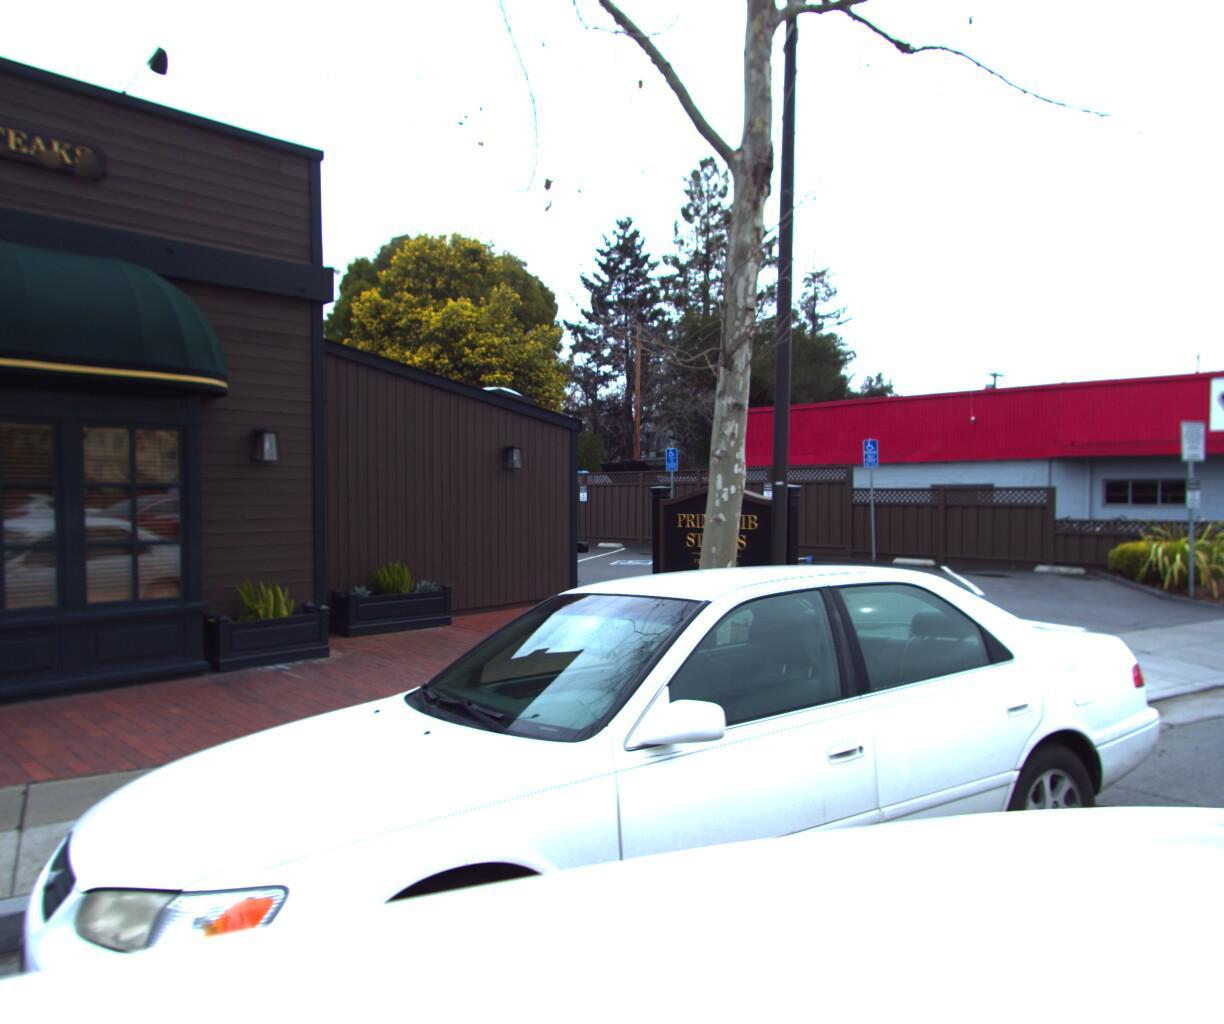car: (0, 536, 1224, 1024)
